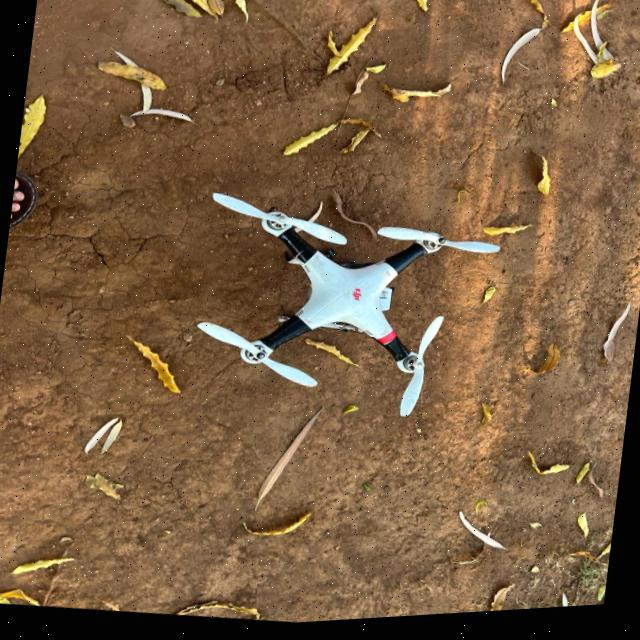drone: (153, 114, 553, 482)
